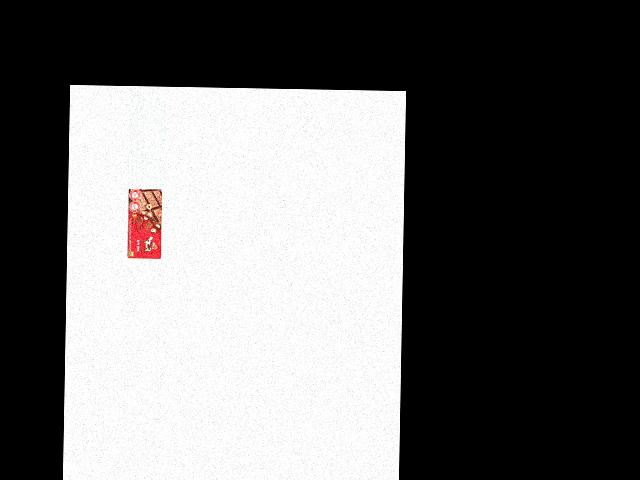chocolate: (126, 188, 162, 259)
